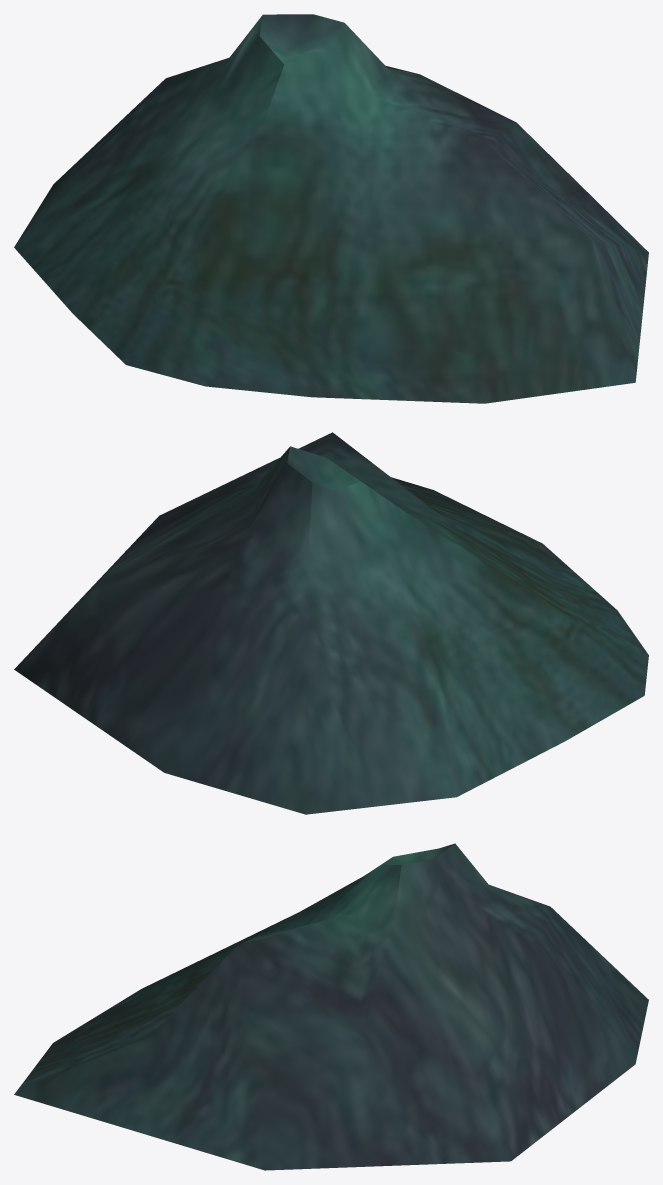
Rendered from pir_m_are_isl_mysterious_08.fbx.
3 renders of one model, top to bottom at view 1: azimuth 30°, elevation 25°; view 2: azimuth 150°, elevation 25°; view 3: azimuth 270°, elevation 25°, orthographic. The views are drawn at different scales.
Parts seen in each view (by area): view 1: whole_island; view 2: whole_island; view 3: whole_island.
Boxes of the visible parts, x1,y1,x2,y2 form: whole_island: [14, 14, 648, 403]; whole_island: [14, 432, 648, 814]; whole_island: [14, 843, 648, 1170].
Size of the model in its own units: 180850 by 77453 by 216684.
1 material, 1 textured.
